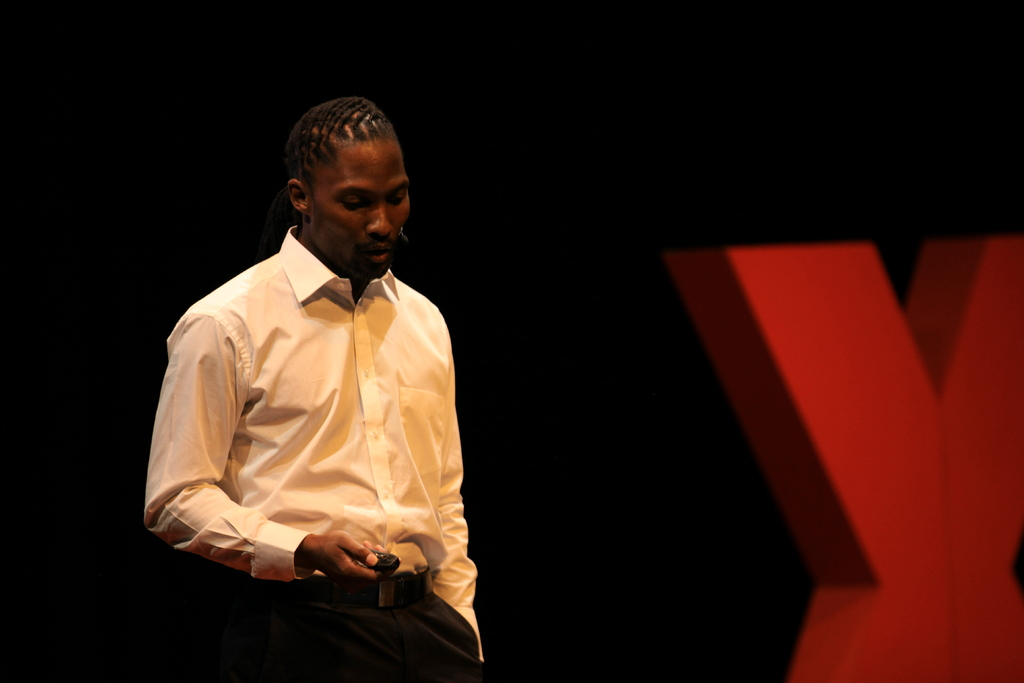Human_hand: (267, 530, 394, 592)
